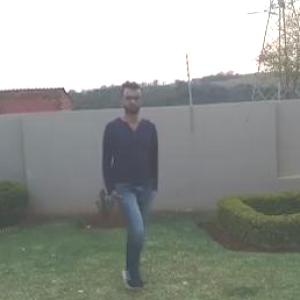follow: (95, 80, 164, 292)
